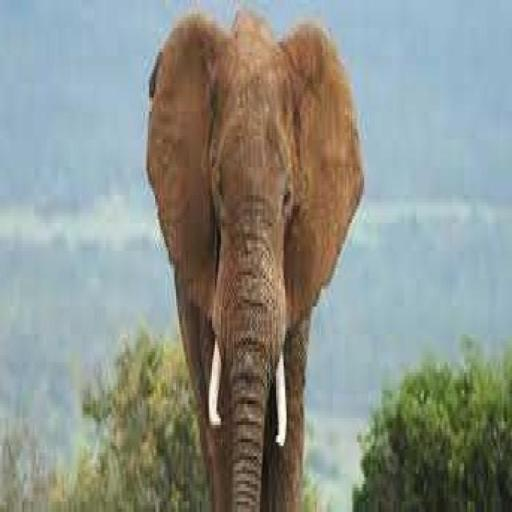Elephant: (144, 7, 364, 508)
